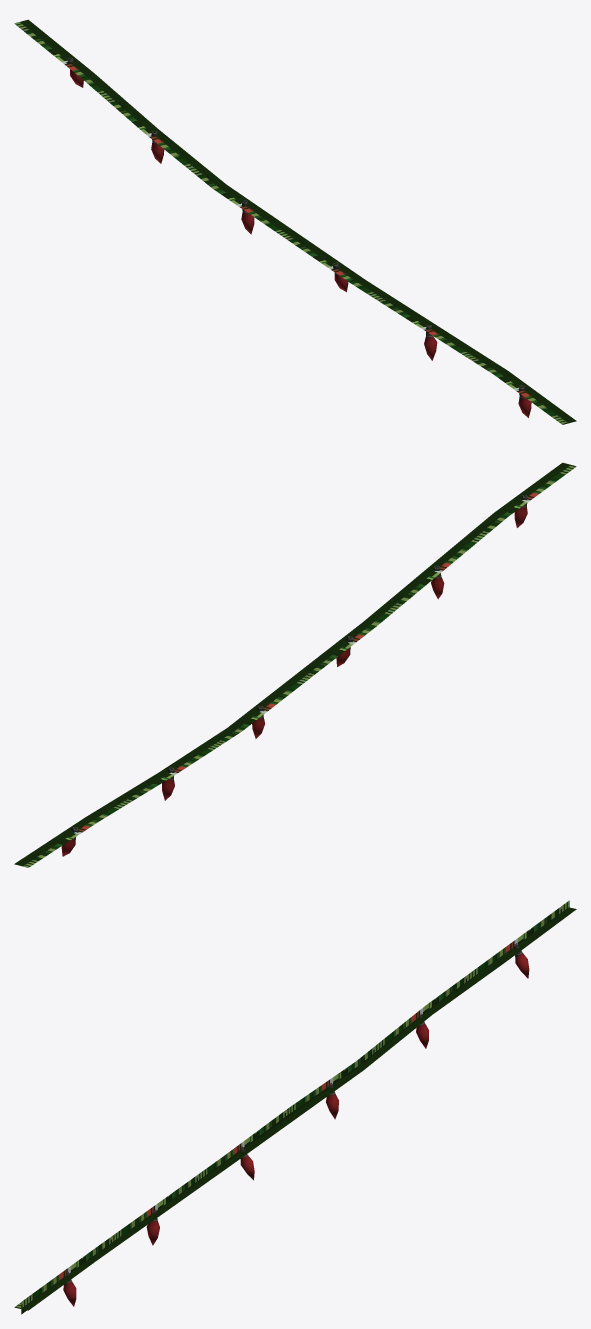
File: christmas_light_strip_violet.glb
The picture shows the model from 3 angles, top to bottom: view 1: azimuth 30°, elevation 25°; view 2: azimuth 150°, elevation 25°; view 3: azimuth 330°, elevation 25°; orthographic projection.
Visible parts, largest first — view 1: christmas_light_strip_violet; view 2: christmas_light_strip_violet; view 3: christmas_light_strip_violet.
Part boxes in pixels (x1,y1,x2,y2): christmas_light_strip_violet: (14,19,576,424); christmas_light_strip_violet: (14,462,576,867); christmas_light_strip_violet: (14,900,576,1314).
Size of the model in its own units: 0.1646 by 0.3003 by 6.
Materials: 2 (2 with a texture image).
